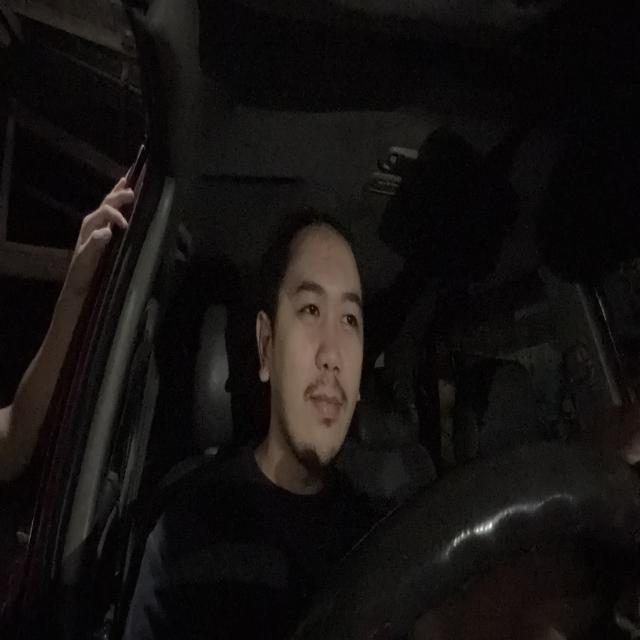open: (290, 274, 324, 331), (336, 286, 365, 337)
